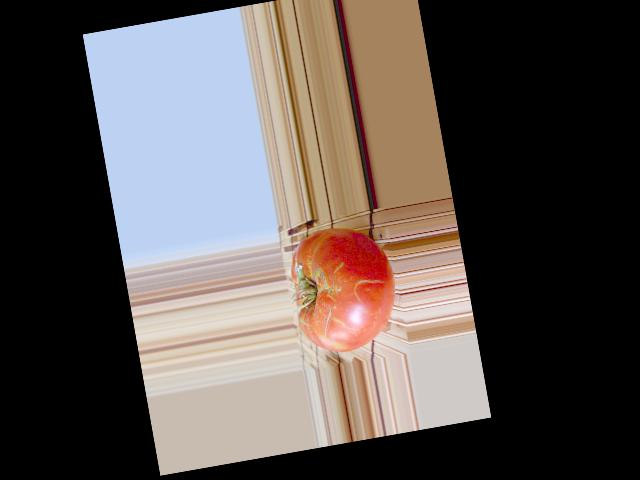tomato: (283, 219, 403, 358)
